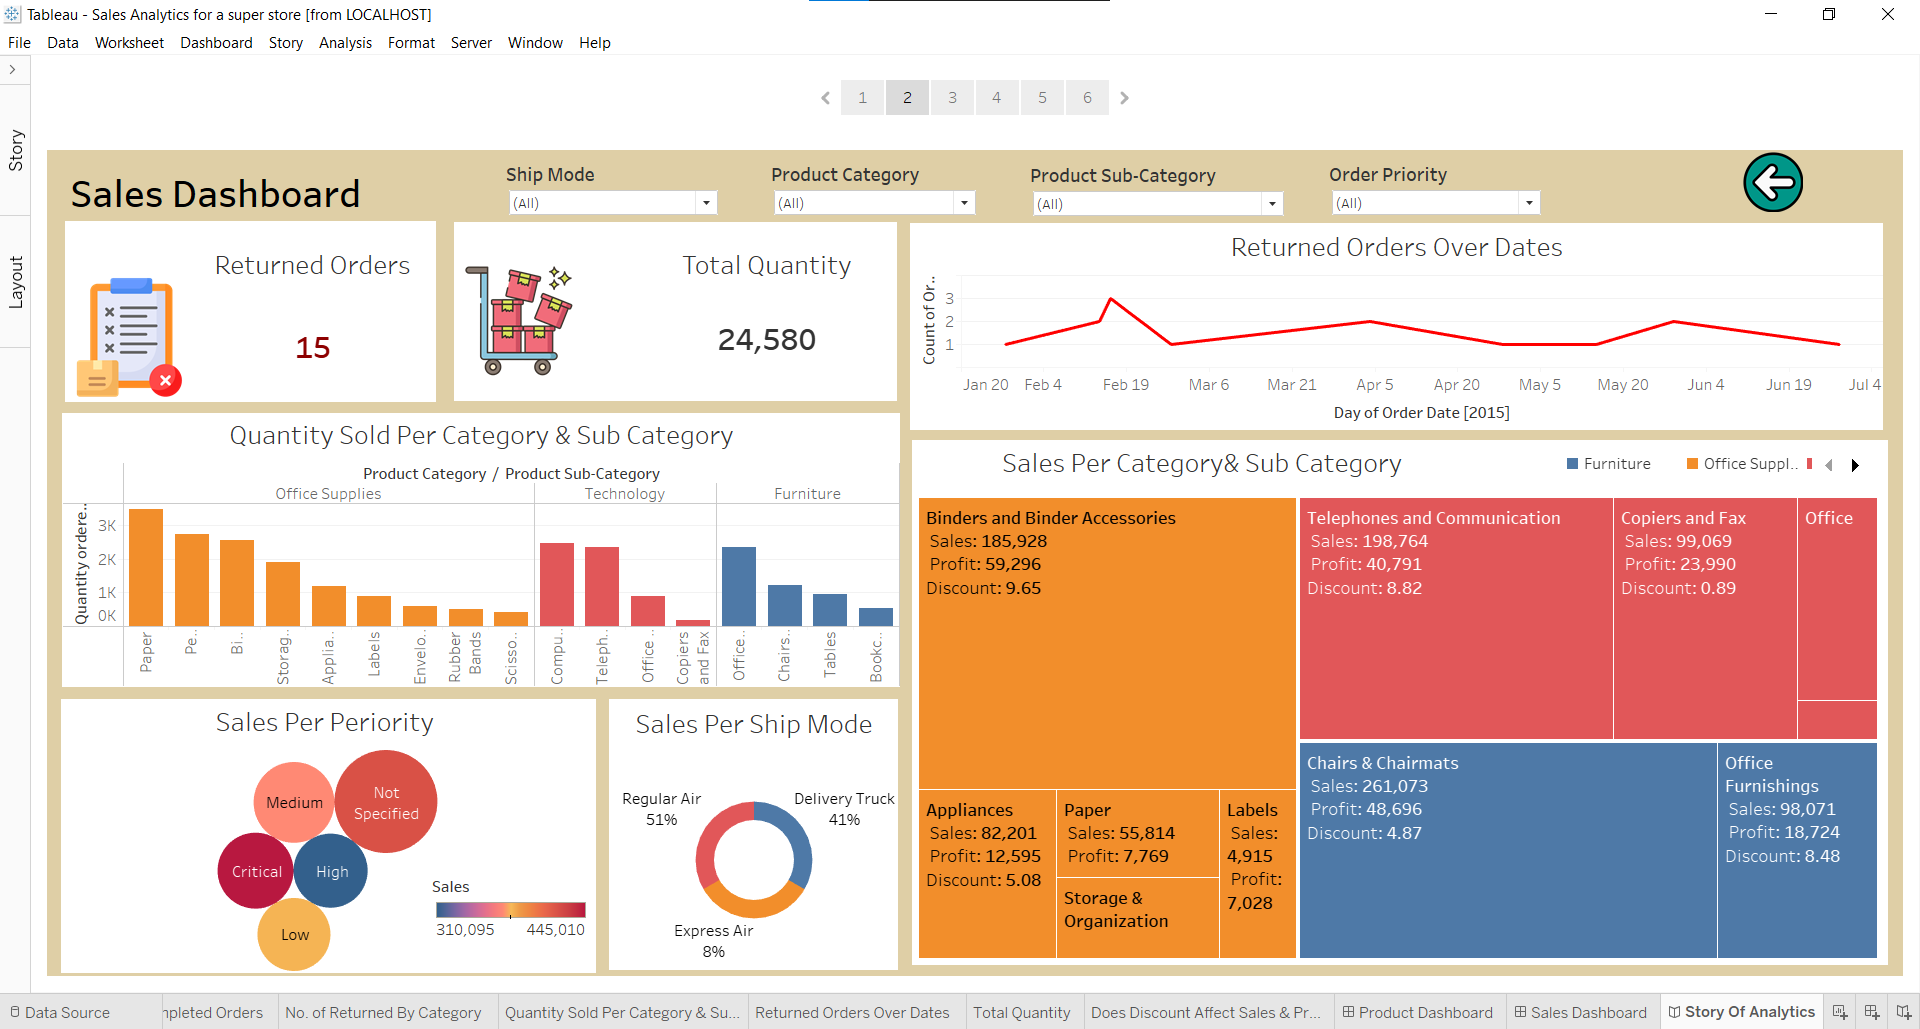

The page's visual inventory and layout, read from the dashboard file:
{"tool":"tableau","page":{"name":"Sales Dashboard","canvas":[1000,1000],"units":"permille","ordinal":1},"visuals":[{"type":"title","box":[4.2,7.4,991.7,77.8]},{"type":"dashboard-object","box":[872.4,12,107.8,71.3]},{"type":"filter","title":"Compare  Categories by sales & profit","param":"[federated.1dbbvk01hzzlmb17xga3f17phd9q].[none:Product Category:nk]","box":[391.2,22.2,110.9,77.8]},{"type":"filter","title":"Sales Per Ship Mode","param":"[federated.1dbbvk01hzzlmb17xga3f17phd9q].[none:Ship Mode:nk]","box":[249.5,22.3,114.7,83]},{"type":"filter","title":"Sales Per Periority ","param":"[federated.1dbbvk01hzzlmb17xga3f17phd9q].[none:Order Priority:nk]","box":[689.1,22.3,114.7,83]},{"type":"filter","title":"Compare  Categories by sales & profit","param":"[federated.1dbbvk01hzzlmb17xga3f17phd9q].[none:Product Sub-Category:nk]","box":[529.2,24.1,137.5,74.1]},{"type":"blank","box":[14.1,93.5,198.4,214.8]},{"type":"blank","box":[221.9,95.4,236.5,213]},{"type":"blank","box":[465.1,96.3,519.8,246.3]},{"type":"worksheet","title":"Returned Orders Over Dates","mark":"Automatic","rows":["Order ID"],"cols":["Order Date"],"box":[465.6,98.2,519.3,243.5]},{"type":"worksheet","title":"No. of Returned Orders","mark":"Automatic","box":[82.3,119.4,127.6,187]},{"type":"worksheet","title":"Total Quantity","mark":"Automatic","box":[321.9,119.4,133.3,164.8]},{"type":"image","param":"Image/overflow.png","box":[223.4,138.9,105.7,146.3]},{"type":"image","param":"Image/cancel-order.png","box":[14.6,156.5,87,149.1]},{"type":"blank","box":[12.5,322.2,447.4,325.9]},{"type":"worksheet","title":"Quantity Sold Per Category & Sub Category","mark":"Automatic","rows":["Quantity ordered new"],"cols":["Product Category","Product Sub-Category"],"box":[13,322.2,446.9,325.9]},{"type":"blank","box":[466.2,353.7,521.4,624.1]},{"type":"worksheet","title":"Compare  Categories by sales & profit","mark":"Automatic","box":[466.2,355.6,518.8,622.2]},{"type":"legend","title":"Compare  Categories by sales & profit","param":"[federated.1dbbvk01hzzlmb17xga3f17phd9q].[none:Product Category:nk]","box":[813.5,369.4,164.6,28.7]},{"type":"blank","box":[11.8,662,286,325.2]},{"type":"blank","box":[304.2,662,154.5,321.7]},{"type":"worksheet","title":"Sales Per Periority ","mark":"Circle","box":[11.8,663.2,284.8,321.7]},{"type":"worksheet","title":"Sales Per Ship Mode","mark":"Pie","rows":["Calculation_99642179486314504","Calculation_99642179486351370"],"box":[306,665.5,151.5,315.9]},{"type":"legend","title":"Sales Per Periority ","param":"[federated.1dbbvk01hzzlmb17xga3f17phd9q].[sum:Sales:qk]","box":[209.9,872.2,84.3,102.2]}]}

Visuals, with their boxes on the dashboard's canvas, which has no fixed pixel size, in thousandths of its width and height (x1, y1, x2, y2). These are canvas units, not pixel positions in the 1920x1029 screenshot, which may show the page scaled, cropped or inside an application window:
title: (4, 7, 996, 85)
dashboard-object: (872, 12, 980, 83)
"Compare  Categories by sales & profit" filter: (391, 22, 502, 100)
"Sales Per Ship Mode" filter: (250, 22, 364, 105)
"Sales Per Periority " filter: (689, 22, 804, 105)
"Compare  Categories by sales & profit" filter: (529, 24, 667, 98)
blank: (14, 94, 212, 308)
blank: (222, 95, 458, 308)
blank: (465, 96, 985, 343)
"Returned Orders Over Dates" worksheet: (466, 98, 985, 342)
"No. of Returned Orders" worksheet: (82, 119, 210, 306)
"Total Quantity" worksheet: (322, 119, 455, 284)
image: (223, 139, 329, 285)
image: (15, 156, 102, 306)
blank: (12, 322, 460, 648)
"Quantity Sold Per Category & Sub Category" worksheet: (13, 322, 460, 648)
blank: (466, 354, 988, 978)
"Compare  Categories by sales & profit" worksheet: (466, 356, 985, 978)
"Compare  Categories by sales & profit" legend: (814, 369, 978, 398)
blank: (12, 662, 298, 987)
blank: (304, 662, 459, 984)
"Sales Per Periority " worksheet (Circle marks): (12, 663, 297, 985)
"Sales Per Ship Mode" worksheet (Pie marks): (306, 666, 458, 981)
"Sales Per Periority " legend: (210, 872, 294, 974)
